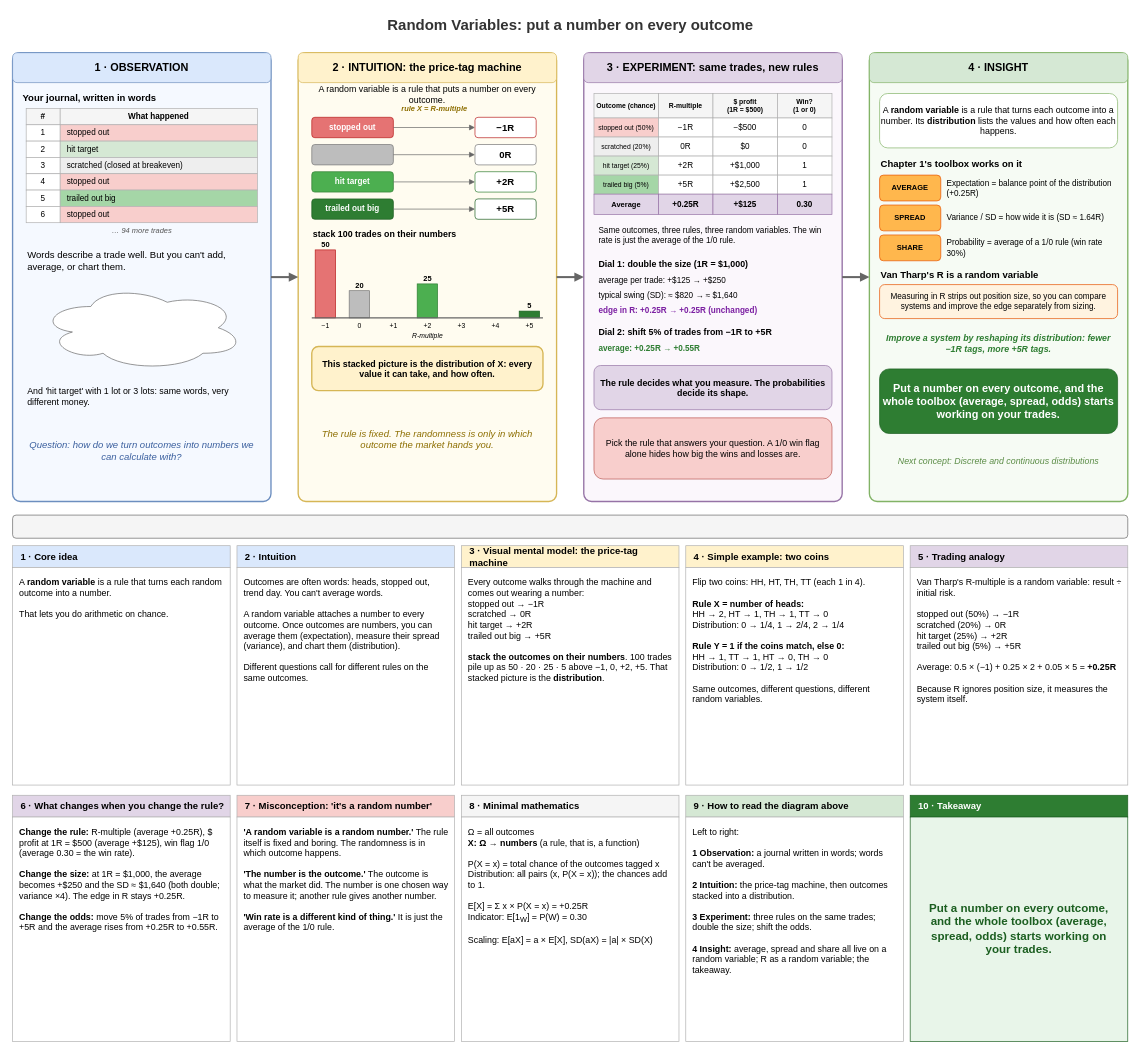
Image size: 1140x1053. Some labels were removed from this diagram. The centre of each missing label's shape, as x and y in pixels:
LESSON NOTES: the full explanation, for future reference: (x=570, y=526)
scratched: (x=352, y=154)
What is the average of 'stopped out' and 'hit target'?: (x=141, y=327)
